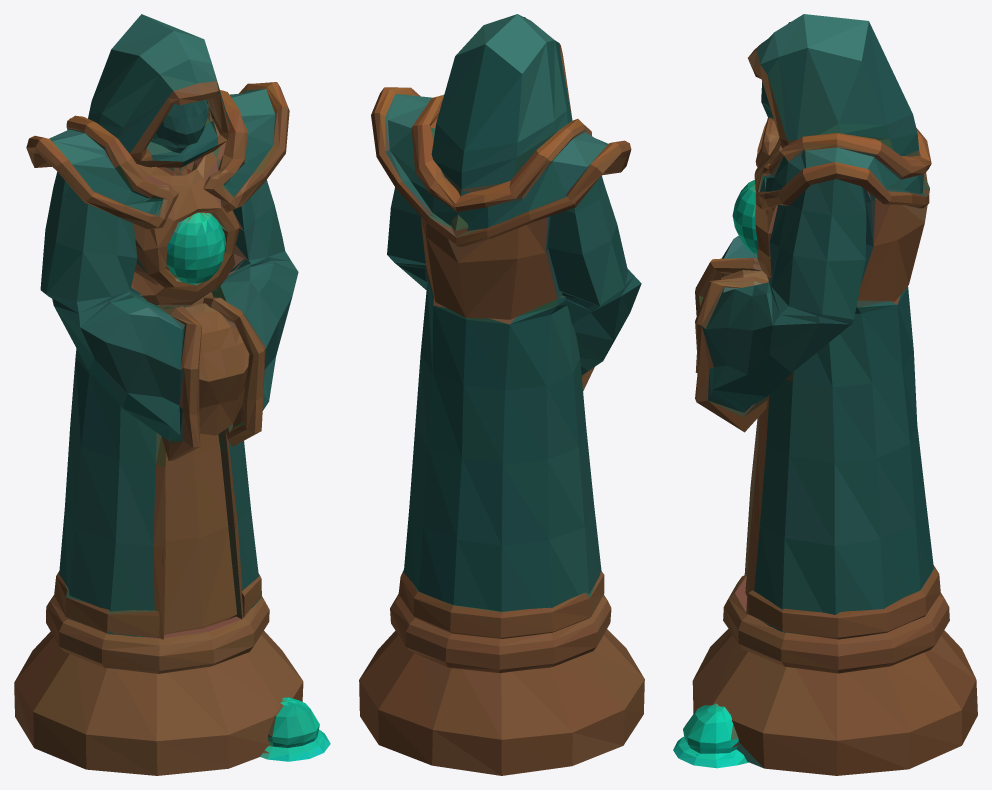
The model's file is invocateur.glb.
3 renders of one model, left to right at view 1: azimuth 30°, elevation 25°; view 2: azimuth 150°, elevation 25°; view 3: azimuth 270°, elevation 25°, orthographic.
Parts seen in each view (by area): view 1: mesh_node; view 2: mesh_node; view 3: mesh_node.
Boxes of the visible parts, x1,y1,x2,y2 form: mesh_node: [14, 14, 330, 775]; mesh_node: [359, 14, 644, 775]; mesh_node: [673, 14, 977, 775].
Size of the model in its own units: 0.3738 by 1 by 0.3933.
